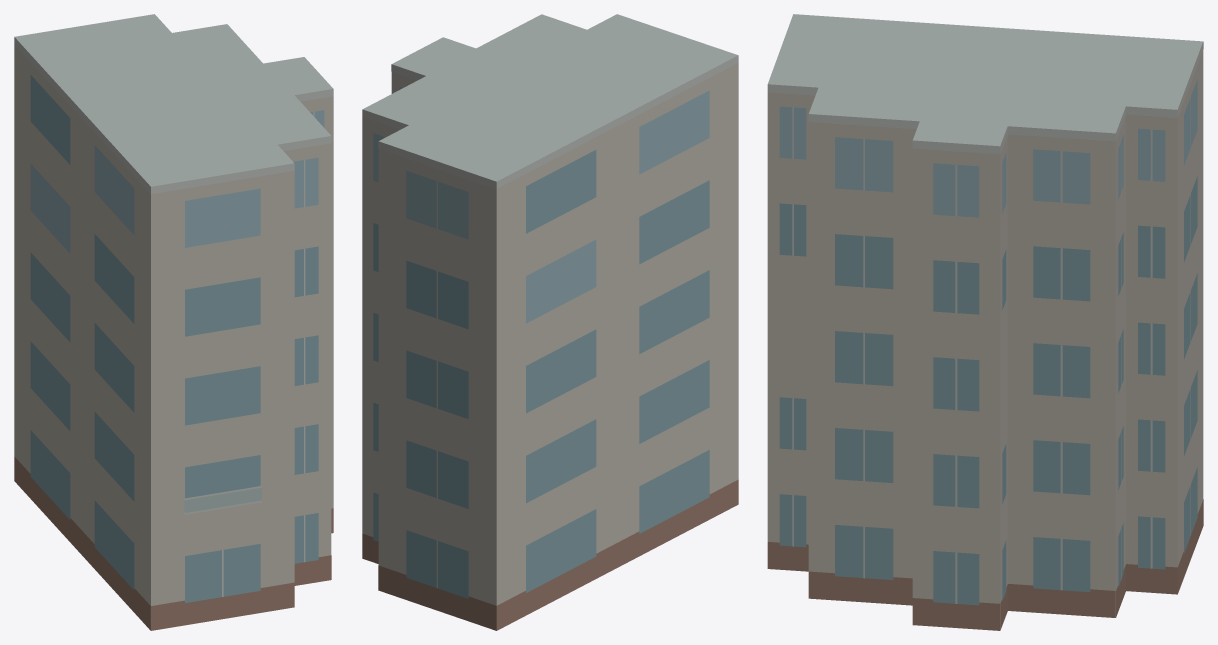
The model's file is survey-upis-32729348.glb.
3 renders of one model, left to right at view 1: azimuth 30°, elevation 25°; view 2: azimuth 150°, elevation 25°; view 3: azimuth 270°, elevation 25°, orthographic. The views are drawn at different scales.
Visible parts, largest first — view 1: survey-upis-32729348.tmp; view 2: survey-upis-32729348.tmp; view 3: survey-upis-32729348.tmp.
Part boxes in pixels (x1,y1,x2,y2): survey-upis-32729348.tmp: (14,14,333,630); survey-upis-32729348.tmp: (362,14,738,630); survey-upis-32729348.tmp: (767,14,1203,630).
Bounding box in the file's own units: 8.55 × 14.6 × 11.91.
